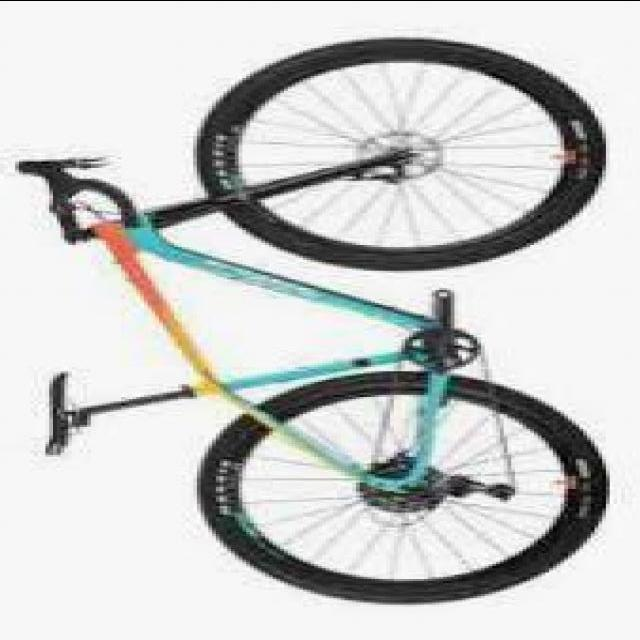bicycle: (28, 37, 600, 572)
